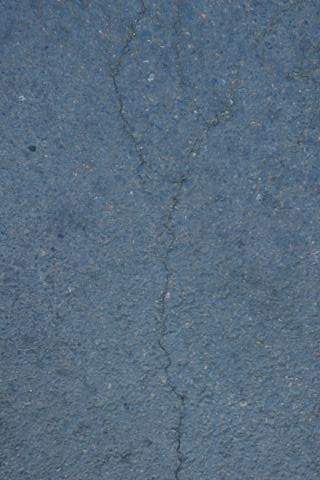A: (155, 145, 193, 480), (106, 1, 154, 201)
